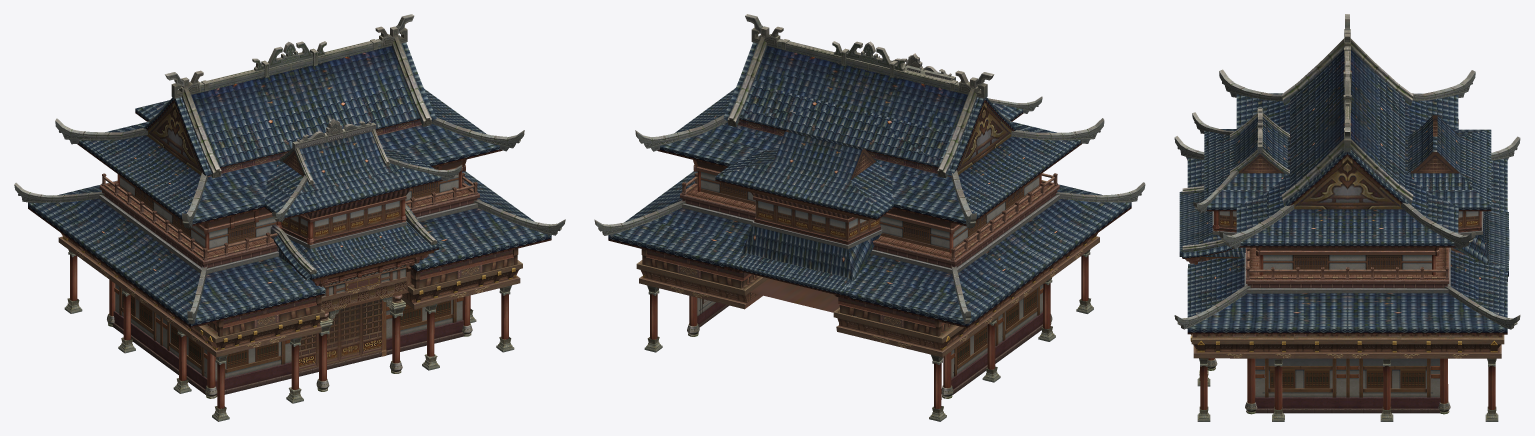
Rendered from Youshuizhou_zhiwu_032.FBX.
The picture shows the model from 3 angles, left to right: view 1: azimuth 30°, elevation 25°; view 2: azimuth 150°, elevation 25°; view 3: azimuth 270°, elevation 25°; orthographic projection. The views are drawn at different scales.
Visible parts, largest first — view 1: Object00123; view 2: Object00123; view 3: Object00123.
Part boxes in pixels (x1,y1,x2,y2): Object00123: (14,14,565,421); Object00123: (594,14,1145,421); Object00123: (1174,14,1520,421).
Size of the model in its own units: 413 by 300 by 335.
1 material, 1 textured.
